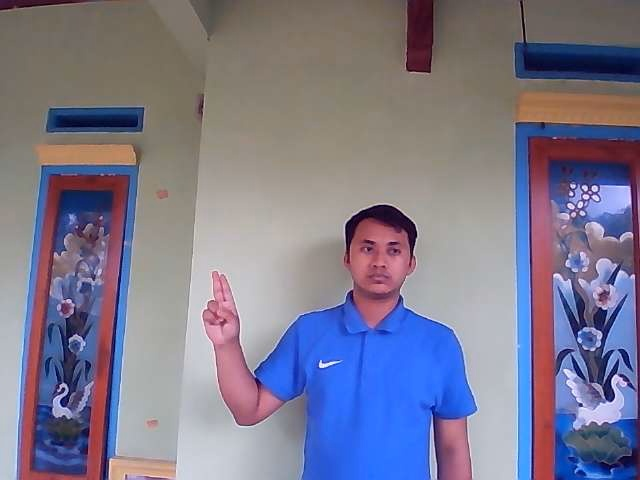U: (200, 270, 241, 343)
